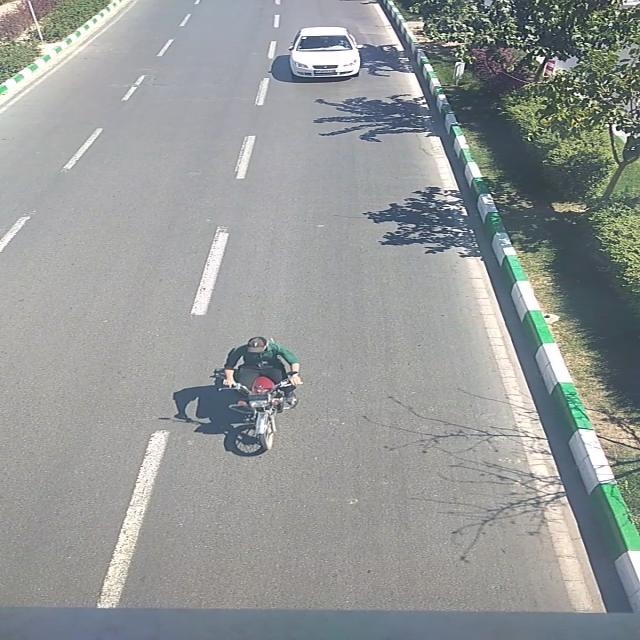car: (288, 27, 363, 79)
motor: (216, 338, 305, 451)
